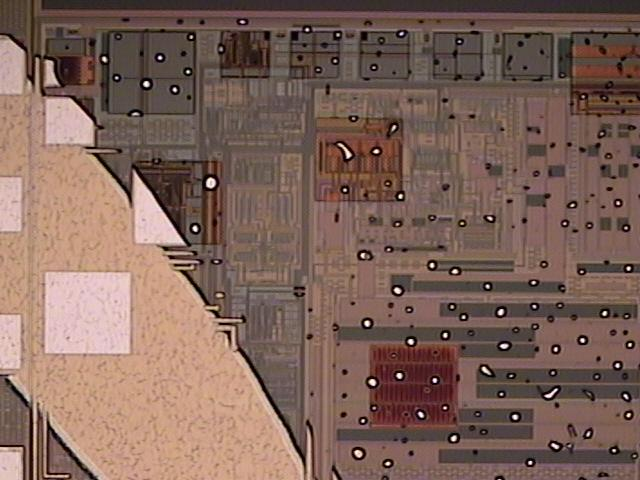COATING BAD: (1, 11, 640, 480)
